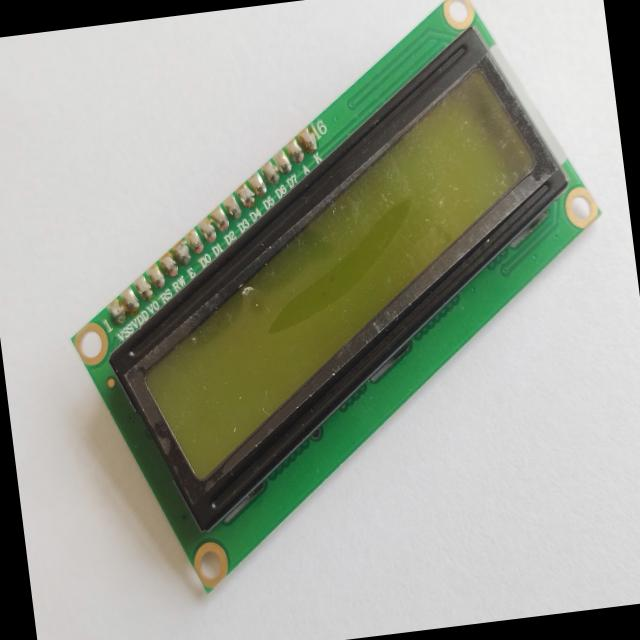lcd: (29, 0, 640, 622)
